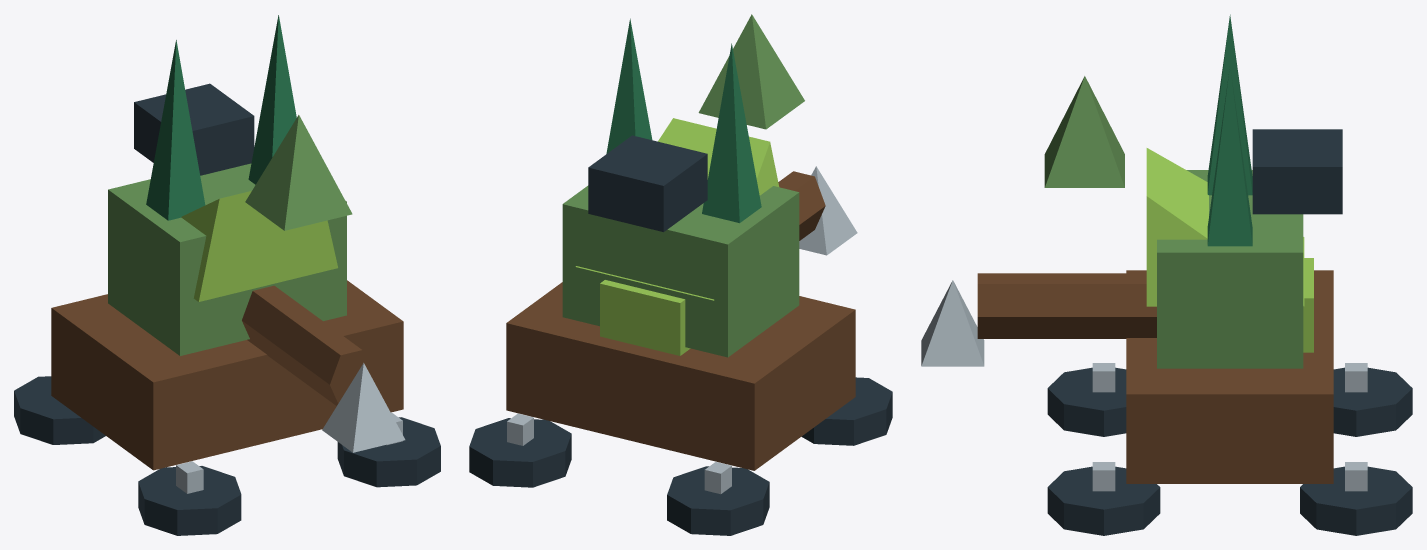
File: siege.obj
3 renders of one model, left to right at view 1: azimuth 30°, elevation 25°; view 2: azimuth 150°, elevation 25°; view 3: azimuth 270°, elevation 25°, orthographic. The views are drawn at different scales.
Parts seen in each view (by area): view 1: siege; view 2: siege; view 3: siege.
Part boxes in pixels (x1=…): siege: x1=14, y1=15, x2=440, y2=535; siege: x1=469, y1=14, x2=892, y2=535; siege: x1=921, y1=14, x2=1412, y2=535.
Bounding box in the file's own units: 1.36 × 1.87 × 1.96.
